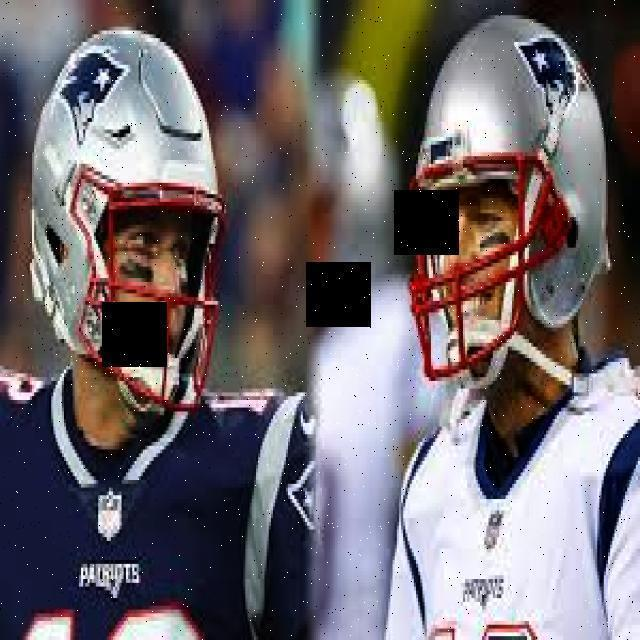helmet: (410, 10, 618, 386), (30, 28, 226, 418)
